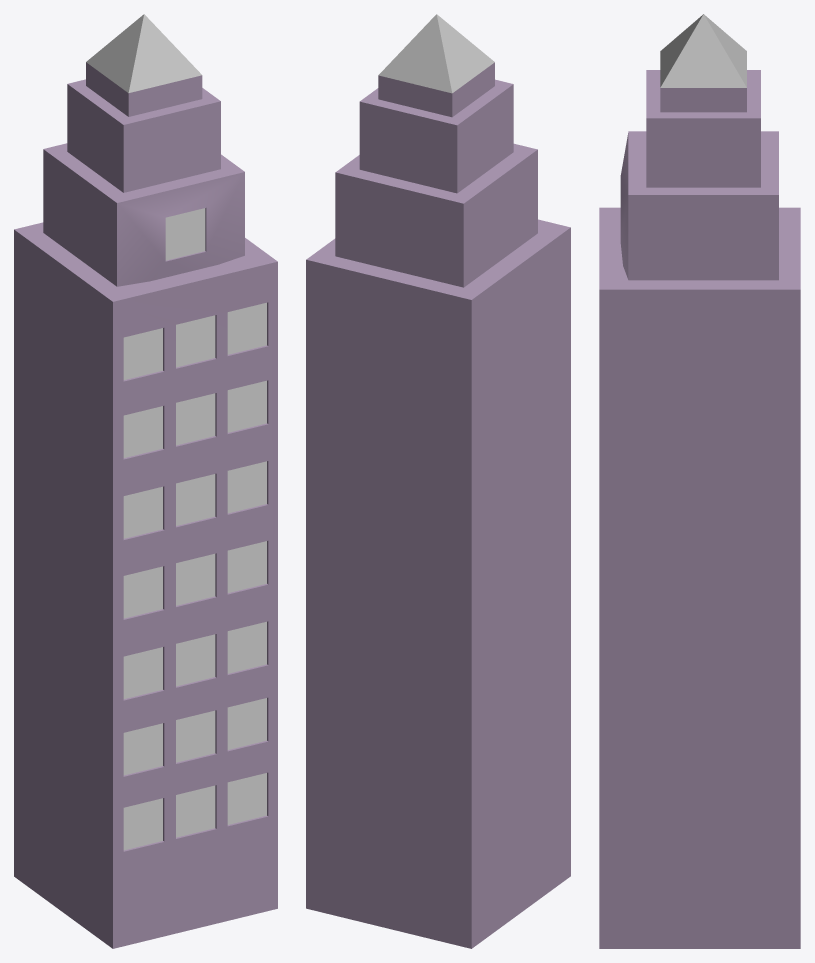
The model's file is Building_7.fbx.
The picture shows the model from 3 angles, left to right: view 1: azimuth 30°, elevation 25°; view 2: azimuth 150°, elevation 25°; view 3: azimuth 270°, elevation 25°; orthographic projection.
Parts seen in each view (by area): view 1: polySurface205; view 2: polySurface205; view 3: polySurface205.
Boxes of the visible parts, x1,y1,x2,y2 form: polySurface205: [14, 14, 277, 948]; polySurface205: [306, 14, 570, 948]; polySurface205: [599, 14, 800, 948].
Size of the model in its own units: 72.93 by 371 by 75.75.
